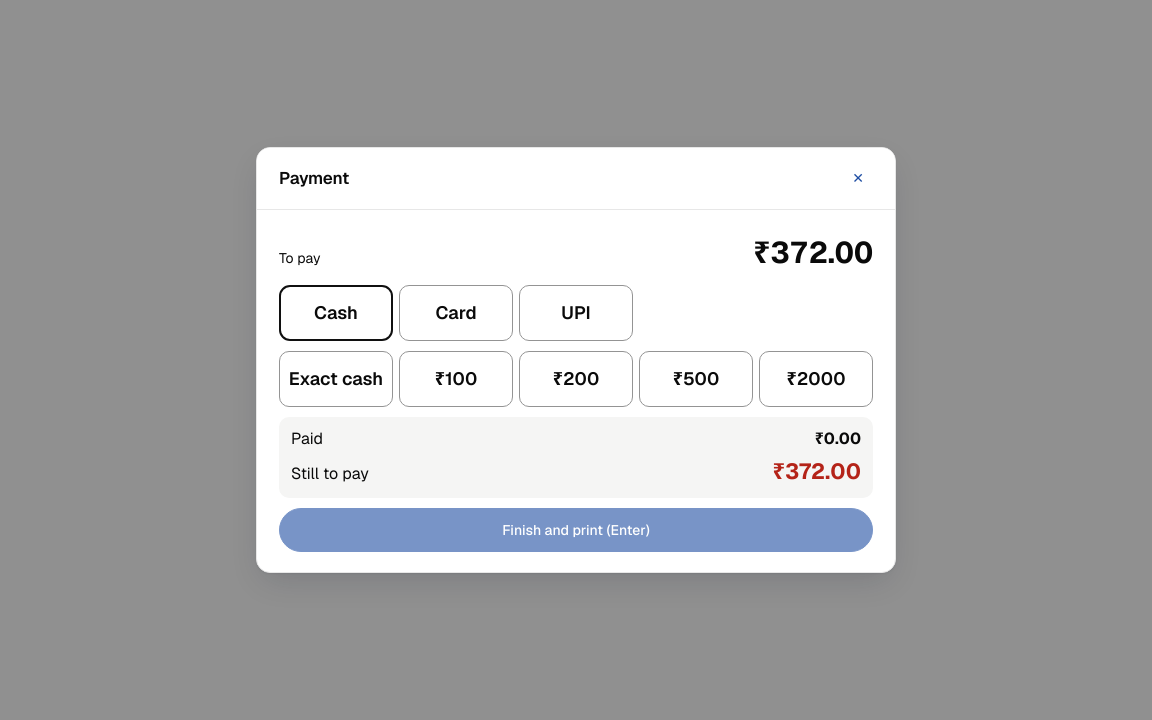
Test: pay screen › shows the change in big figures when more cash is given
The width and height of the screenshot is (1152, 720).
Check: the text with test id "pay-due" reads "₹372.00", box [753,233,873,272]
What coordinates should you click on to do the following:
click the button "₹500"
I would click on:
 (696, 379)
Its box is [639,351,753,407].
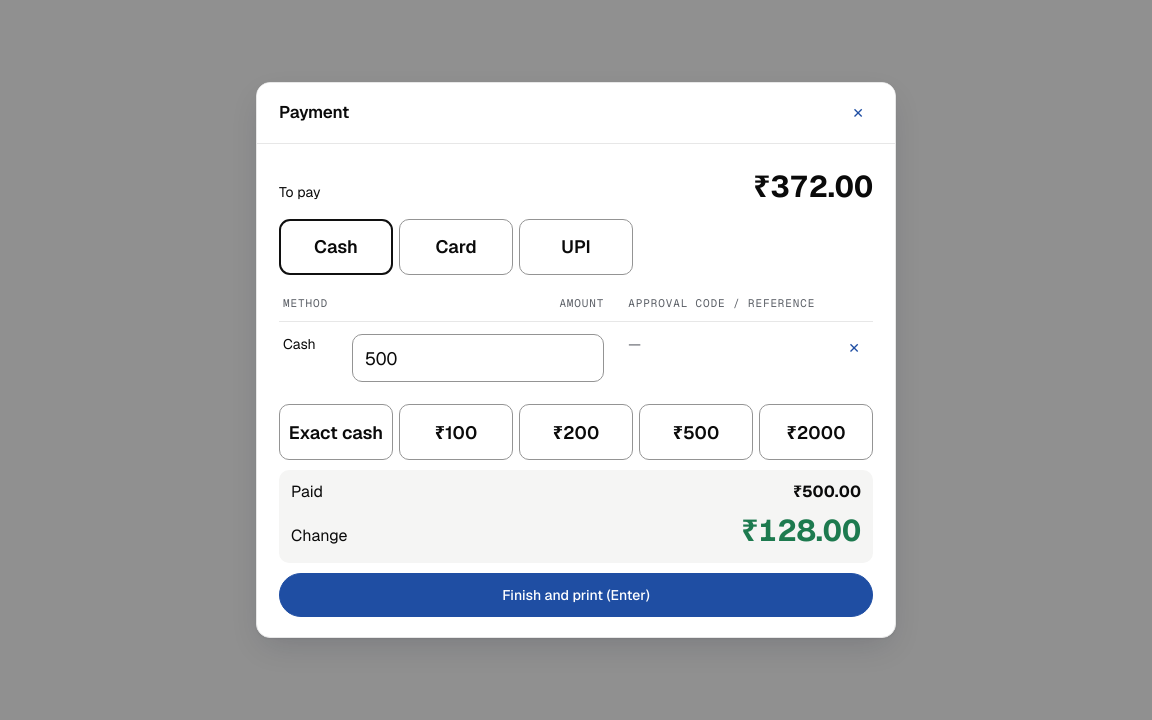
Check: the text with test id "pay-change" reads "₹128.00", box [741,511,861,550]
Check: the button "Finish and print (Enter)" is enabled, box [279,573,873,617]
